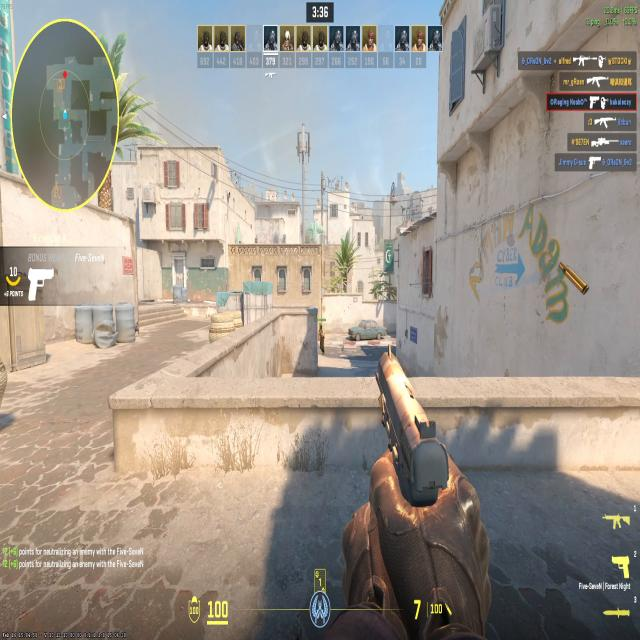player: (317, 322, 328, 358)
